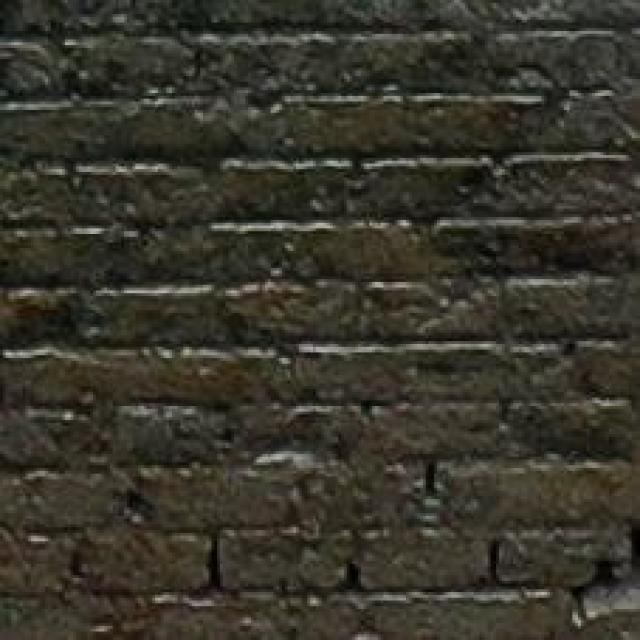Crack: (0, 127, 577, 640)
